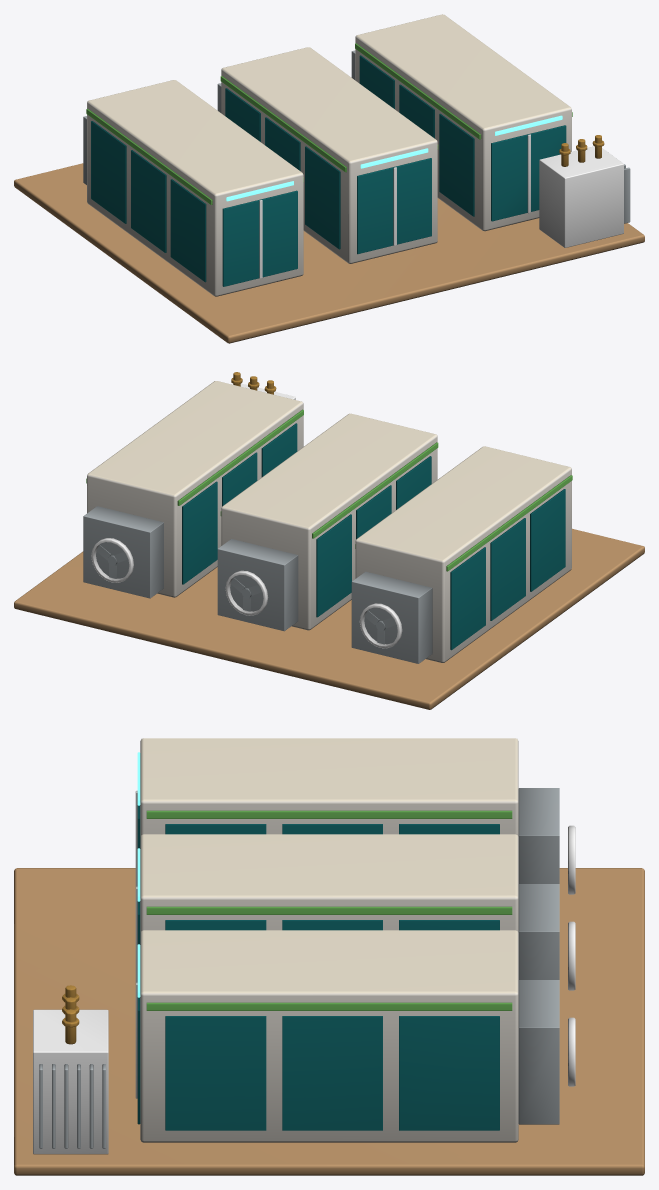
File: battery_storage.fbx
3 views of the same model, one above another, from view 1: azimuth 30°, elevation 25°; view 2: azimuth 150°, elevation 25°; view 3: azimuth 270°, elevation 25° (orthographic). The views are drawn at different scales.
Visible parts, largest first — view 1: battery_storage; view 2: battery_storage; view 3: battery_storage.
Boxes of the visible parts, box(x1,y1,x2,y2) form: battery_storage: box(14, 14, 644, 343); battery_storage: box(14, 372, 644, 709); battery_storage: box(14, 738, 644, 1175).
Size of the model in its own units: 11.2 by 2.85 by 10.
